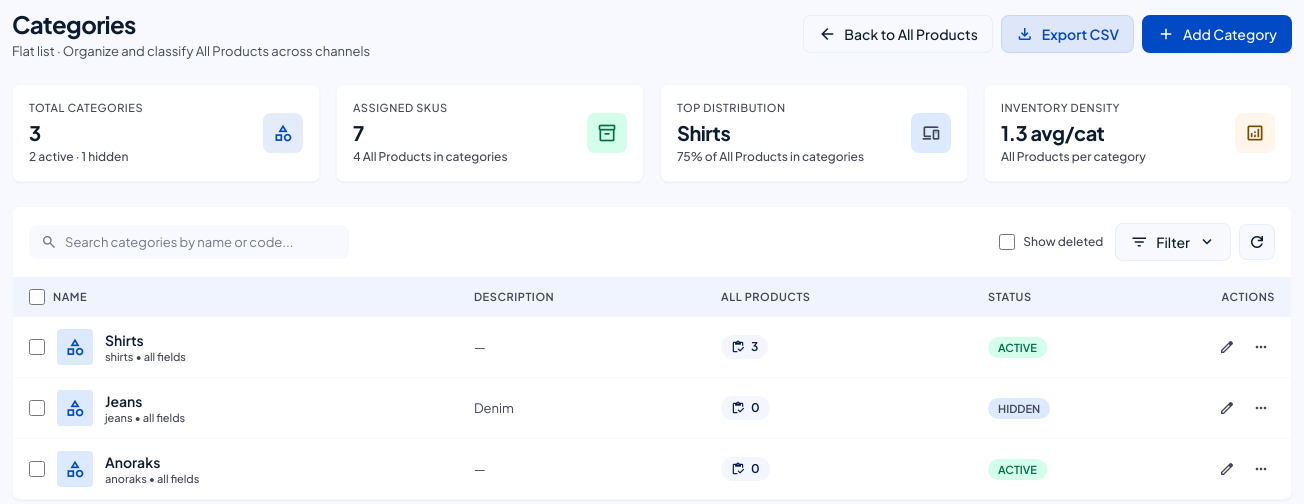
Test: CategoryTreePage — search, filter, sort, show deleted › searches by name or code after a short pause
The width and height of the screenshot is (1304, 504).
Expected: the row with test id "cat-shirts" is shown, left=13, top=317, right=1291, bottom=378
Type "JEA" into the field labelled "Search categories" at (189,242), box left=29, top=225, right=349, bottom=259
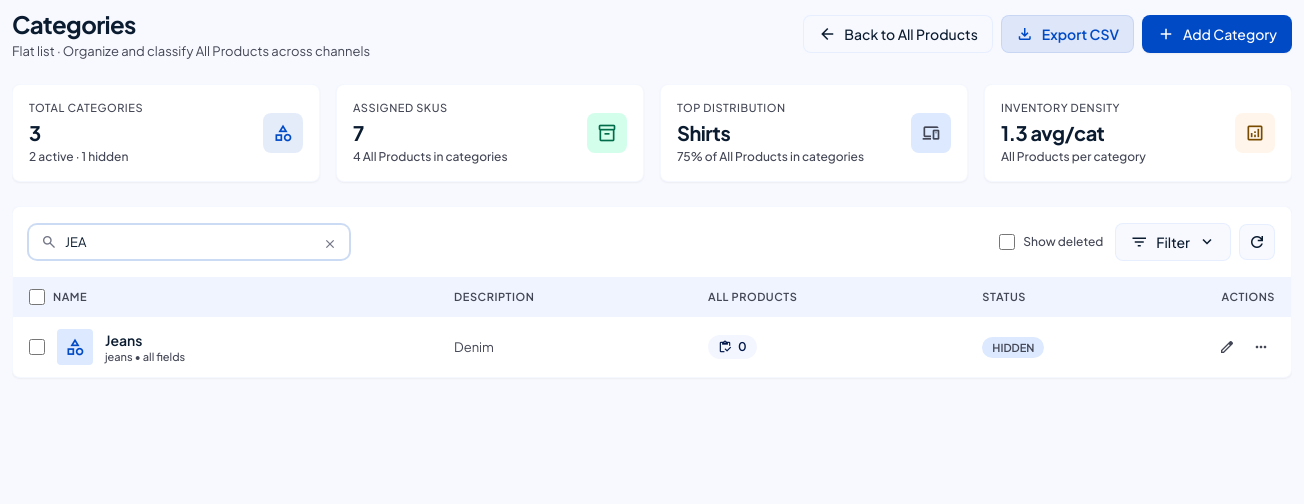
Replace the text in the field named "Search categories" with "nothing-like-it" at (189,242), box left=29, top=225, right=349, bottom=259
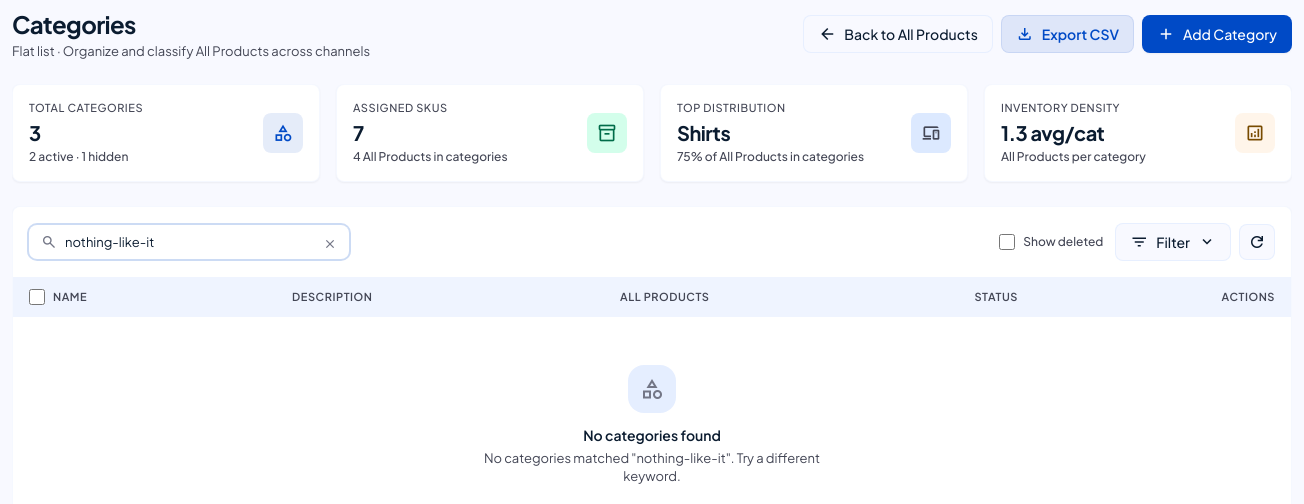
Result: the text "No categories matched \"nothing-like-it\"" is shown at left=484, top=450, right=820, bottom=484
